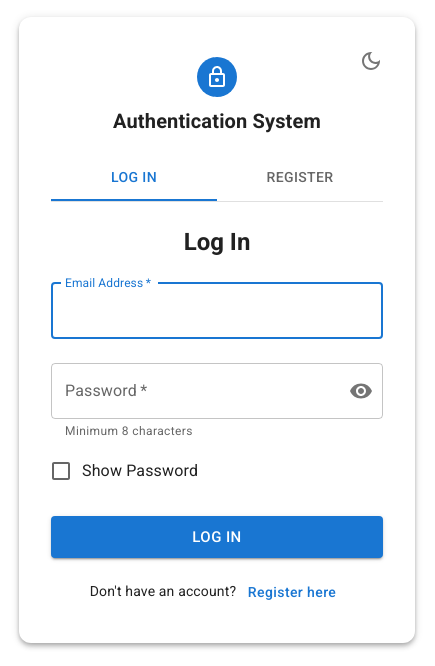
Test case: authentication application › switches views from the form links
Click the button "Register here" at point(292, 592), box left=240, top=574, right=344, bottom=610
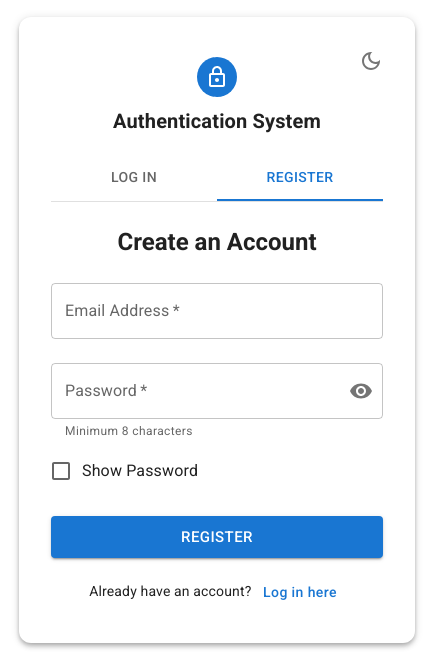
expect the heading "Create an Account" is shown: met, box left=118, top=228, right=317, bottom=256
Click the button "Log in here" at point(300, 592), box left=255, top=574, right=345, bottom=610
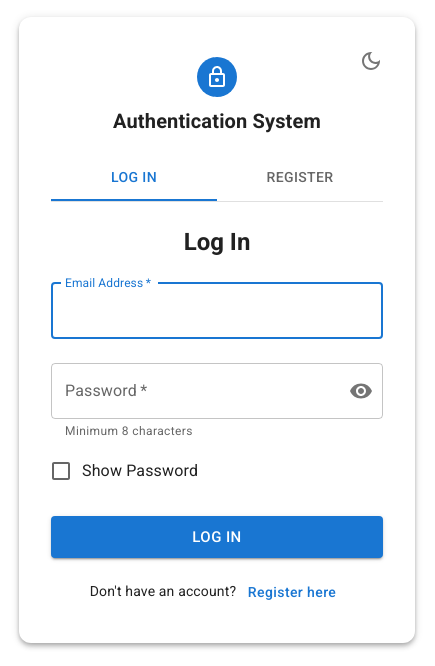
expect the heading "Log In" is shown: met, box left=184, top=228, right=250, bottom=256
